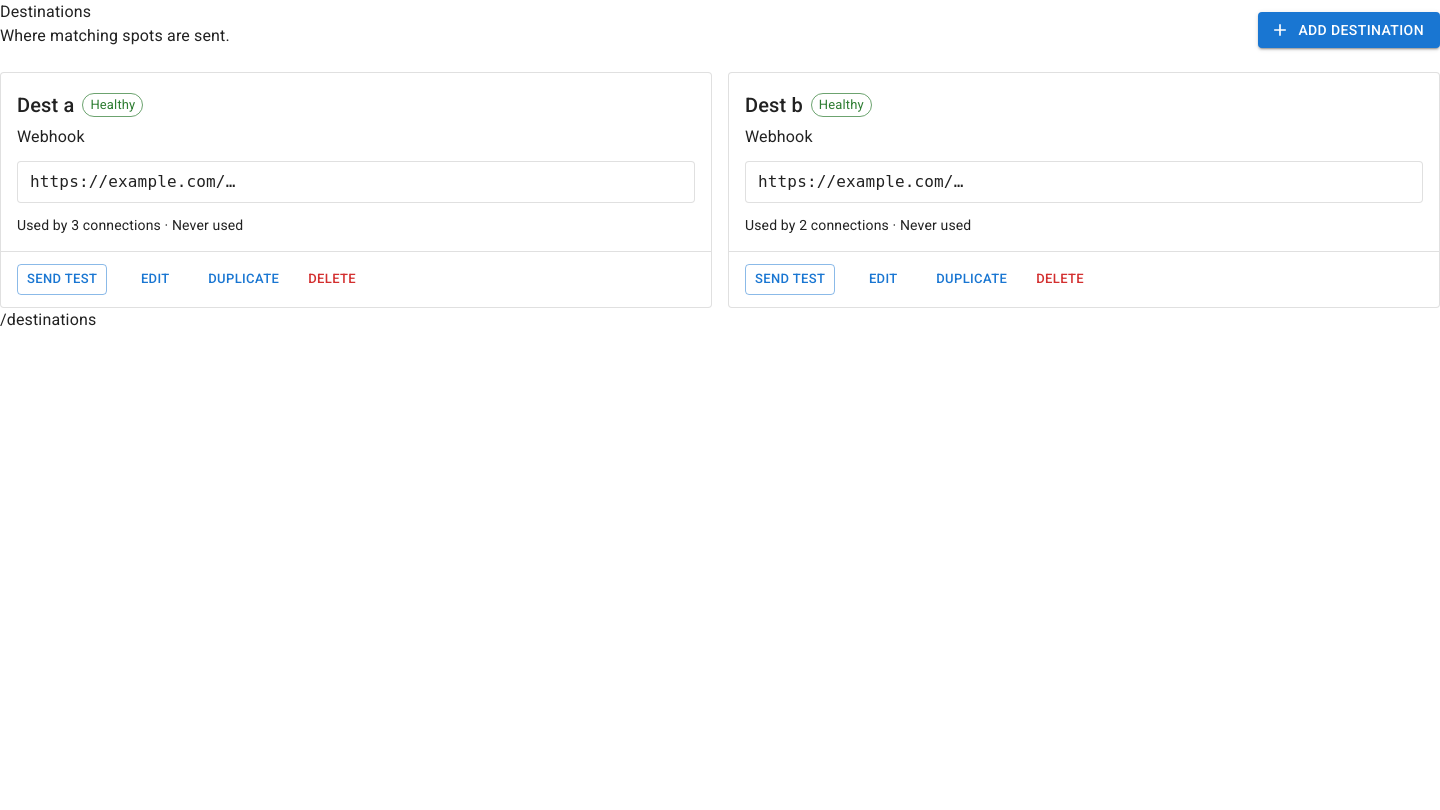
DestinationsPage › names the connections a used destination would leave with nowhere to send, then deletes it
The width and height of the screenshot is (1440, 810).
Click the button with aria-label "Delete Dest a": (332, 279) [300,264,364,295]
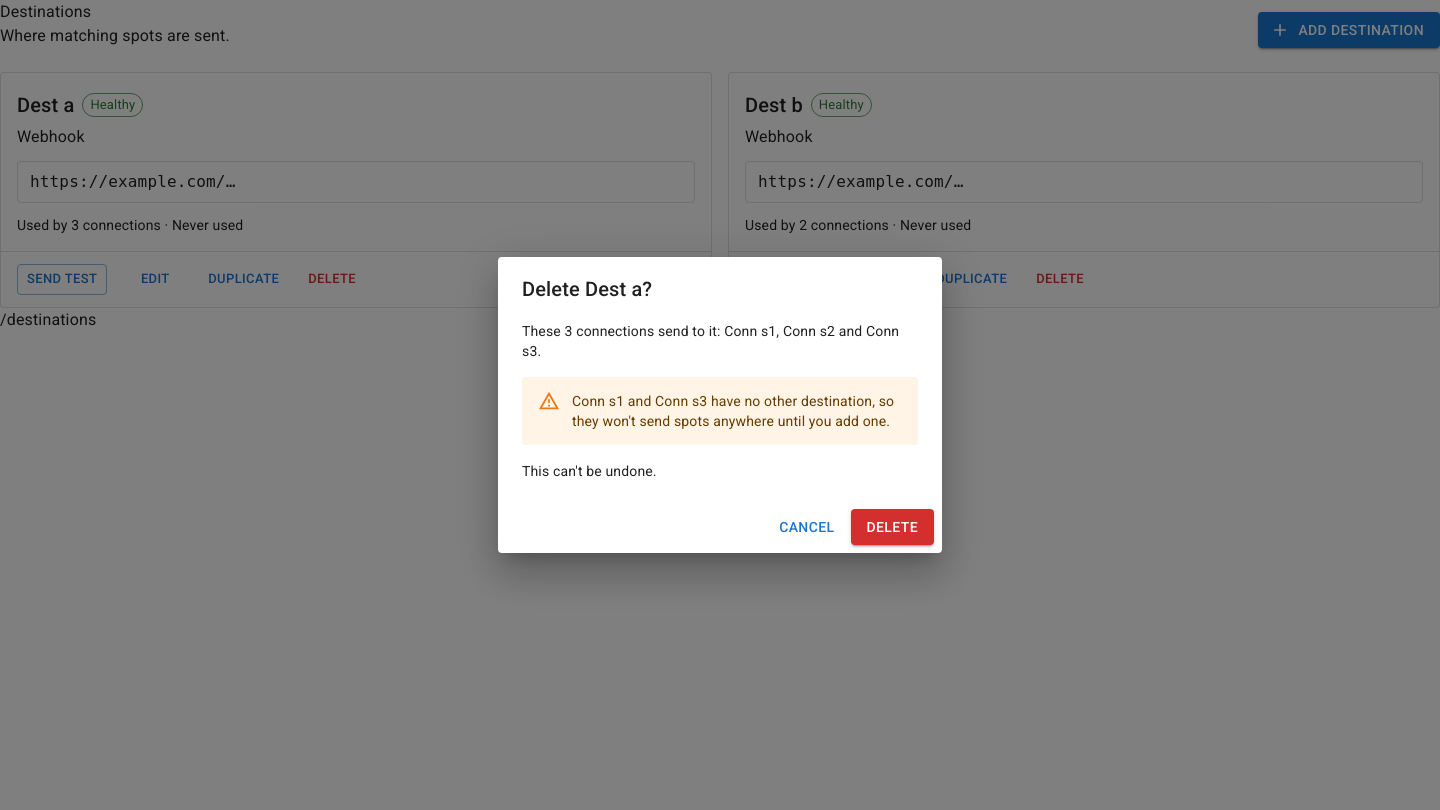
Expected: the dialog "Delete Dest a?" shows "These 3 connections send to it: Conn s1, Conn s2 and Conn s3.", [498,257,942,553]
Expected: the message shows "Conn s1 and Conn s3 have no other destination, so they won't send spots anywhere until you add one.", [522,377,918,445]
Expected: the dialog "Delete Dest a?" shows "This can't be undone.", [522,463,657,479]
Click the button "Delete": (892, 527) [850,509,934,545]
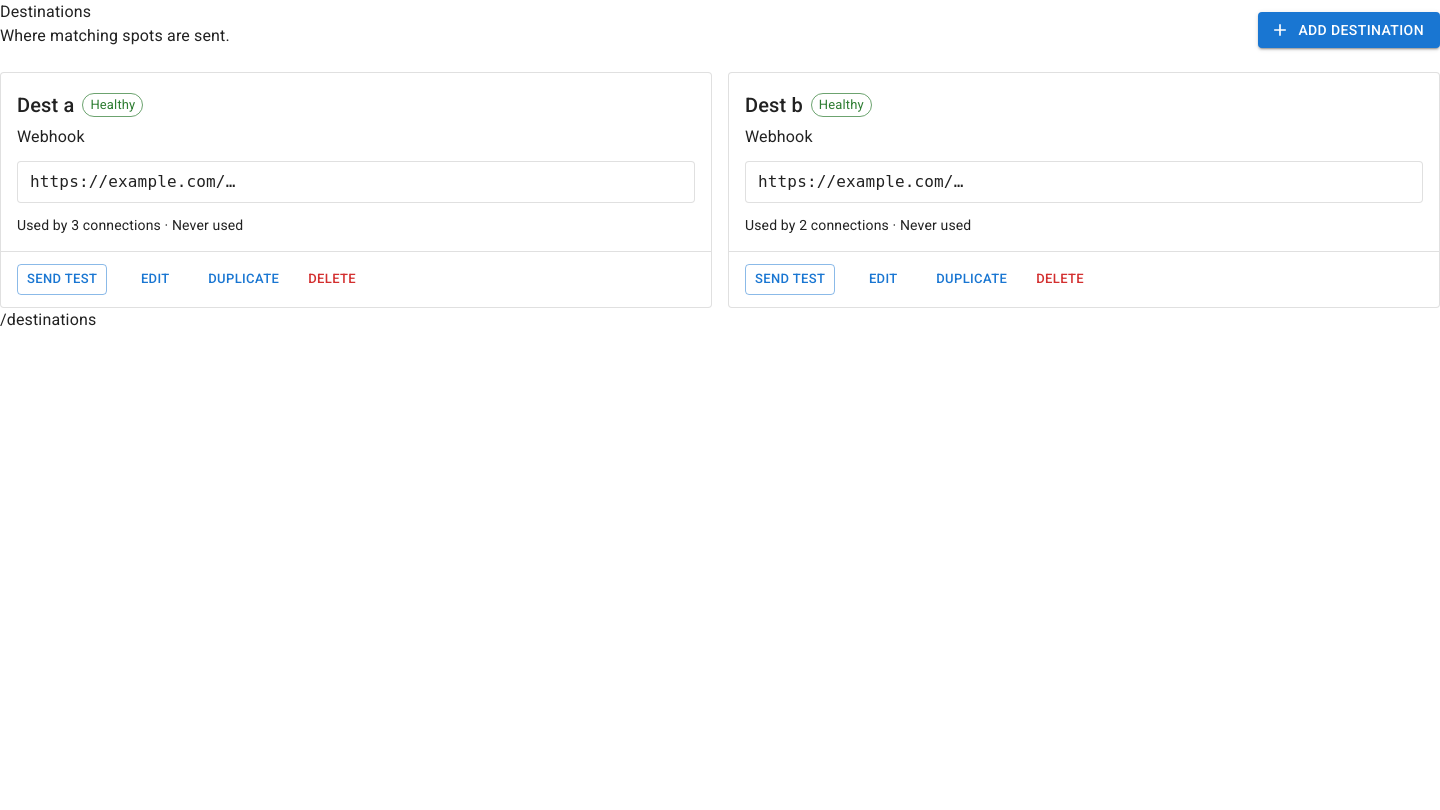
Expected: the dialog is gone
